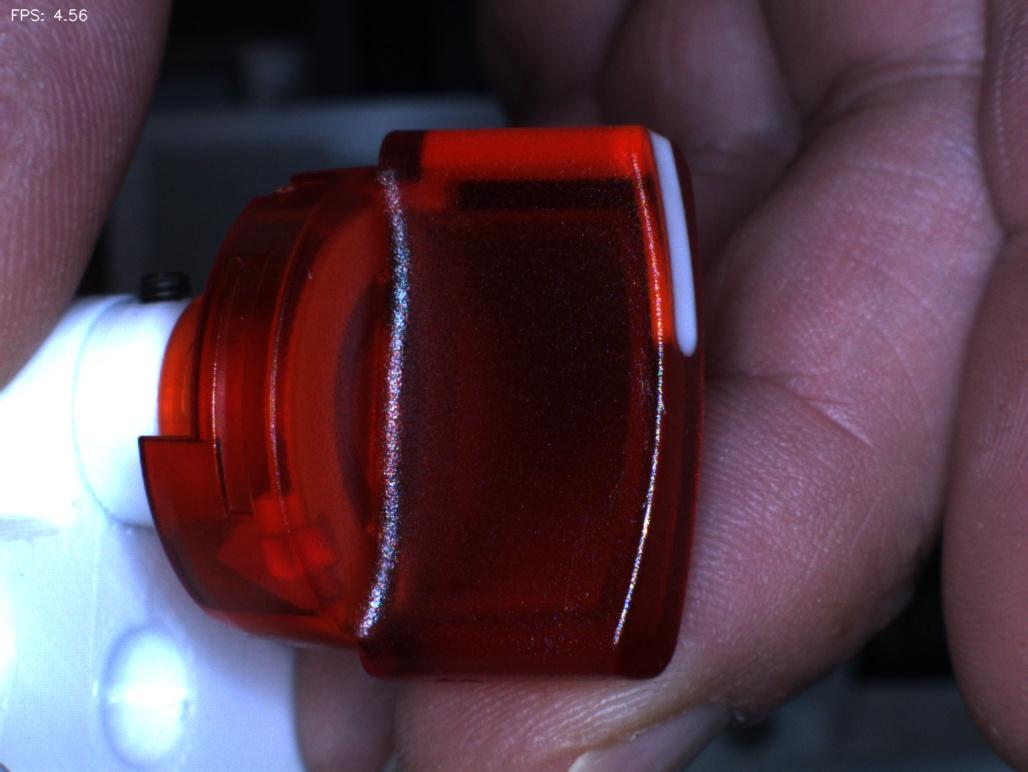Givrage: (606, 330, 684, 455)
